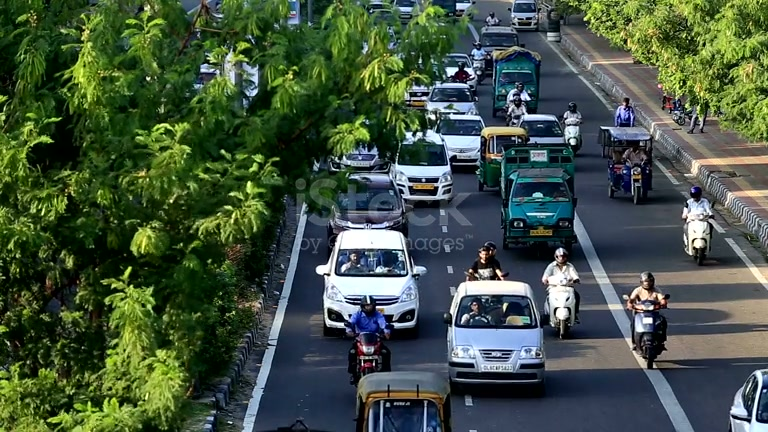car: (442, 278, 548, 397), (316, 228, 427, 338), (499, 168, 579, 256), (354, 368, 453, 431), (326, 171, 411, 244), (392, 132, 456, 207), (476, 125, 528, 192), (433, 113, 486, 171), (423, 83, 480, 130), (728, 368, 768, 430), (510, 0, 538, 29), (392, 0, 422, 23)
motorcycle: (625, 296, 670, 369), (346, 328, 391, 385), (607, 156, 653, 204), (544, 281, 581, 339), (682, 208, 714, 266), (562, 119, 583, 155)
pedestrian: (343, 295, 391, 377), (625, 271, 669, 347), (540, 247, 582, 325), (681, 185, 714, 250), (465, 242, 508, 282), (681, 185, 714, 227), (460, 299, 491, 326), (614, 97, 636, 127)
truck: (490, 46, 543, 118)
